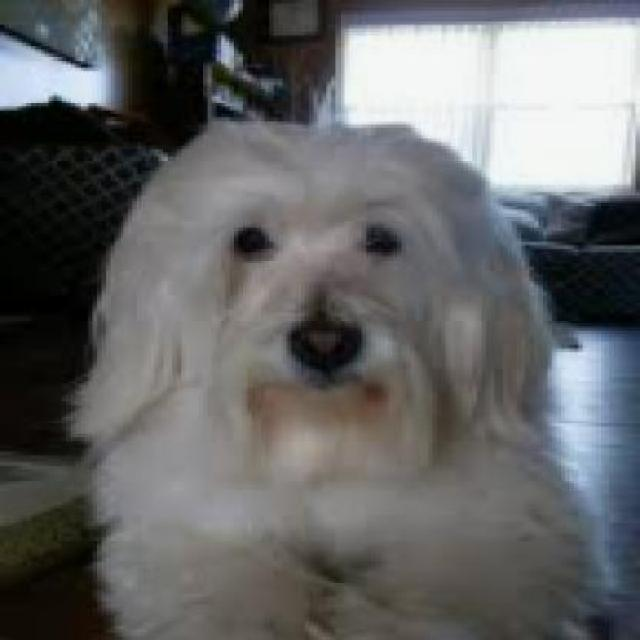Dog: (57, 114, 605, 637)
